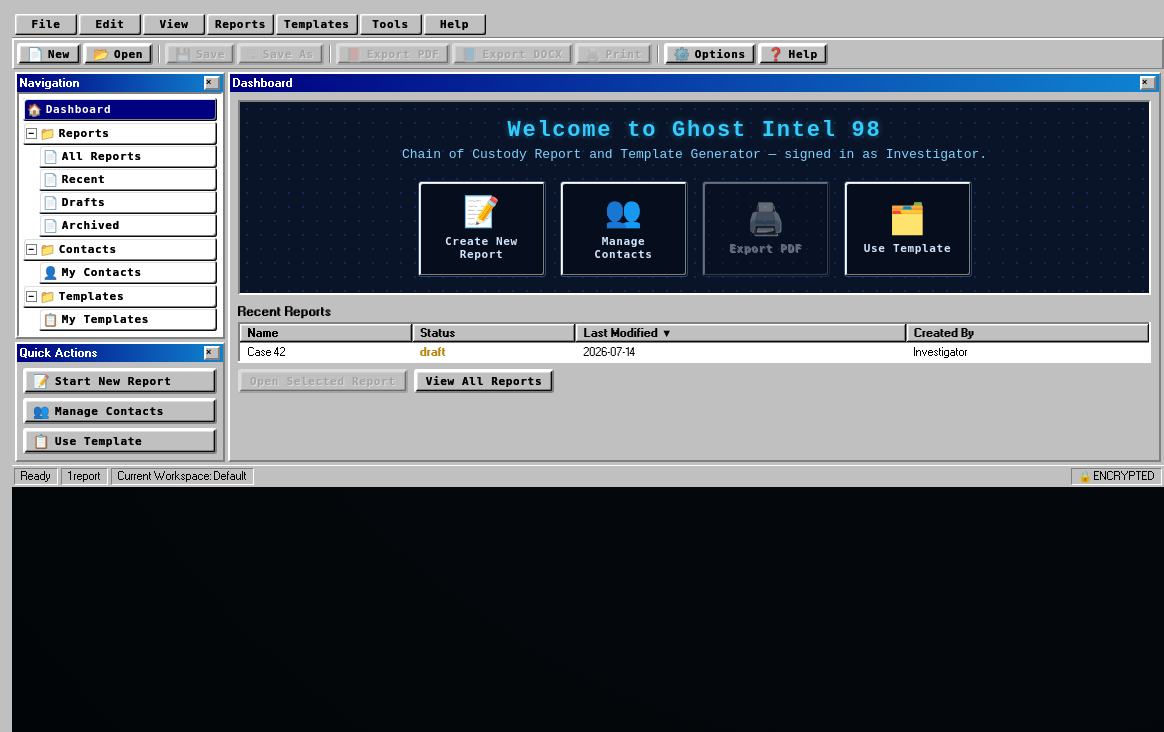
Test: ReportEditor — signature capture (Task 6) › renders the shared SignaturePad in the open report
Double-click the row "Case 42 draft 2026-07-14 Investigator".
double_click(694, 352)  # box [239,343,1150,362]
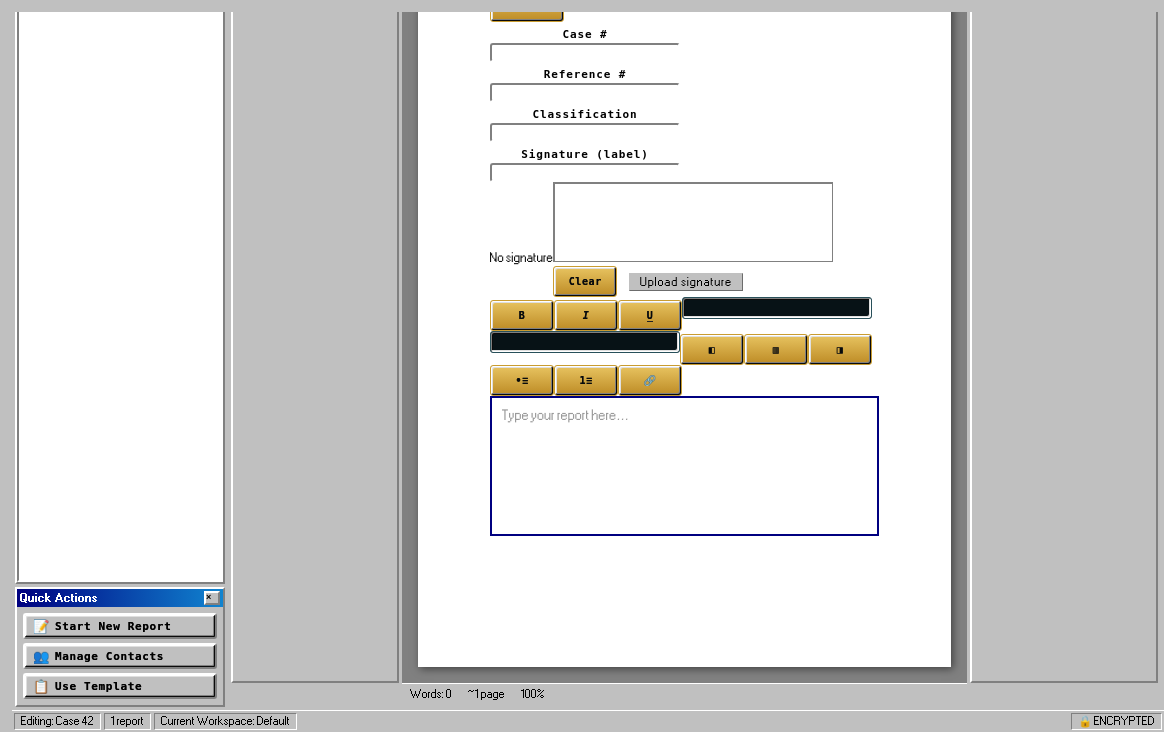
Check: the element with class "ga98-signature-pad" is shown, box [553,182,833,297]
Check: the file field named "Upload signature" is shown, box [629,272,743,290]
